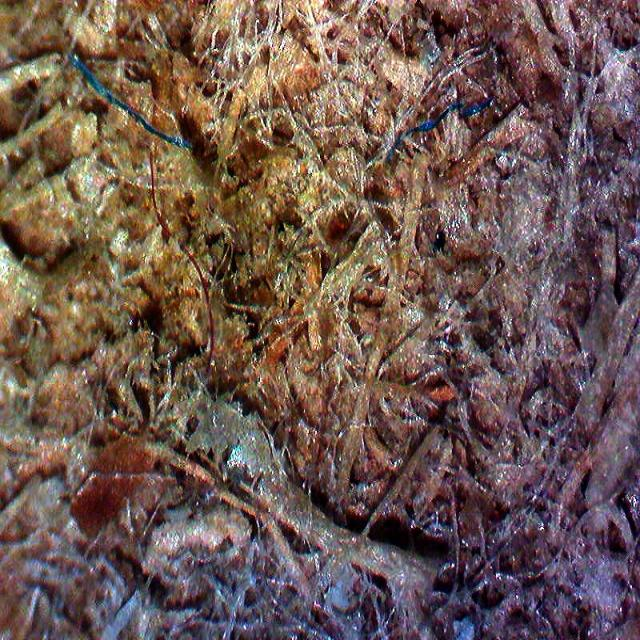microplastic: (149, 150, 215, 378), (72, 53, 194, 149), (387, 97, 495, 162)
